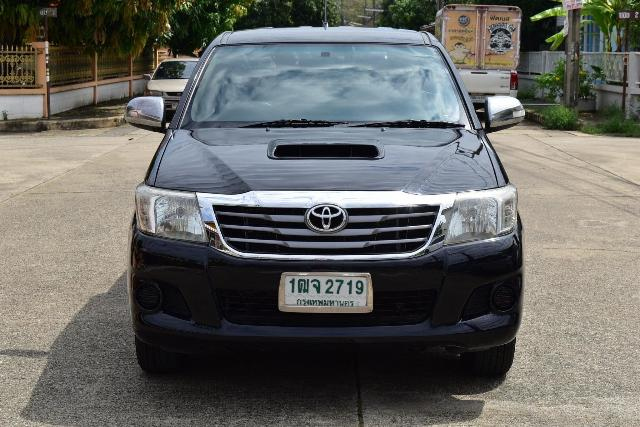pickup-truck: (116, 14, 538, 393)
